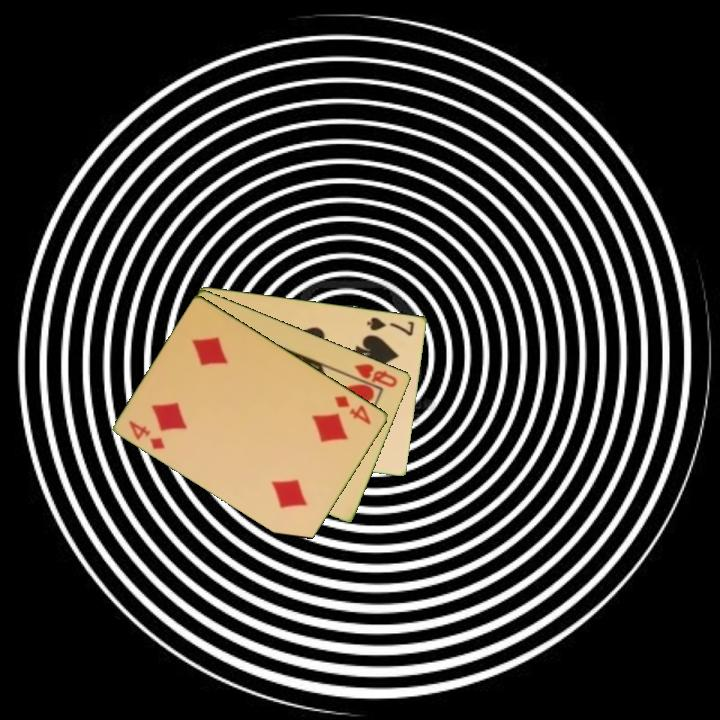4d: (331, 392, 374, 428), (125, 417, 168, 452)
7s: (364, 313, 417, 339)
Qh: (351, 360, 400, 390)
